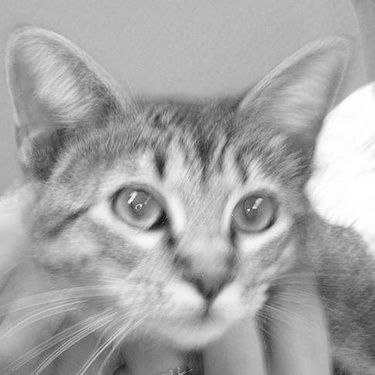cat: (1, 25, 353, 374)
